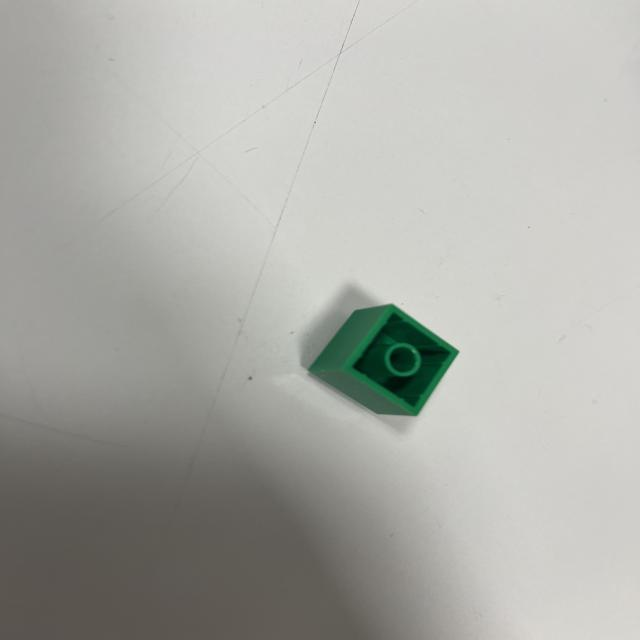C2x2x1: (300, 302, 470, 419)
